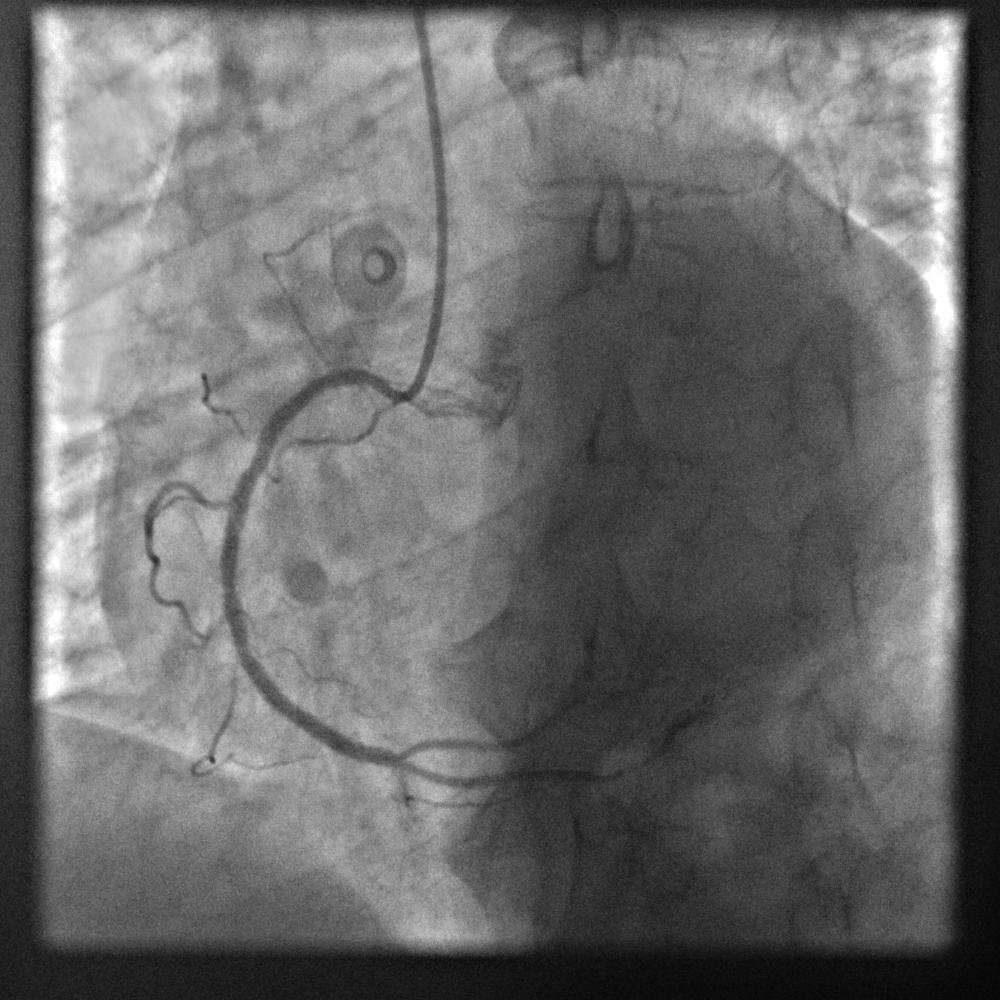Stenosis: (236, 437, 273, 493)
